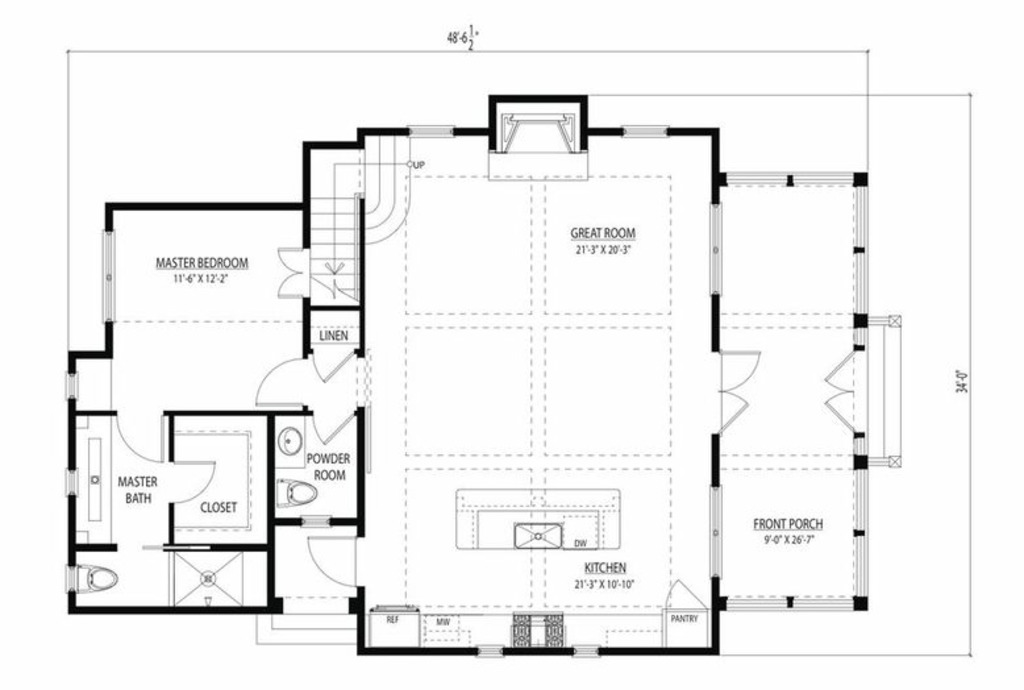door: (717, 349, 763, 432), (253, 357, 306, 409), (307, 533, 361, 584), (825, 350, 858, 433), (117, 413, 167, 465), (174, 462, 220, 501), (660, 572, 705, 611), (276, 248, 309, 300), (312, 346, 362, 380), (309, 411, 352, 446)
large_sink: (276, 475, 317, 508), (75, 564, 120, 590)
small_sink: (268, 426, 309, 461)
stairs: (309, 141, 428, 310), (310, 145, 424, 308)
windows: (855, 184, 872, 313), (852, 470, 868, 596), (724, 173, 851, 188), (100, 227, 118, 323), (708, 203, 725, 297), (707, 487, 723, 579), (855, 185, 866, 316), (727, 602, 853, 613), (409, 122, 458, 139), (623, 127, 668, 141)
